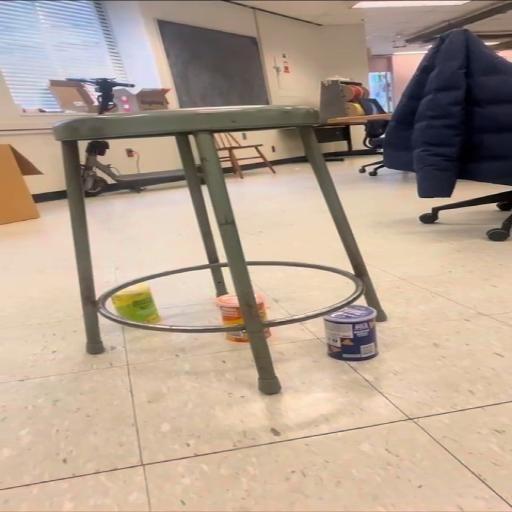pringles: (326, 308, 378, 358), (112, 287, 163, 327), (214, 292, 247, 329)
